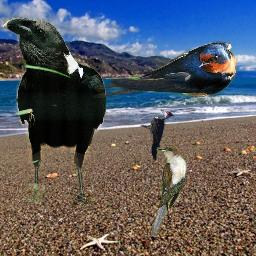Crow: (1, 17, 106, 207)
Cuckoo: (151, 146, 187, 237)
Swallow: (94, 41, 238, 98)
Woodpecker: (140, 109, 175, 161)
